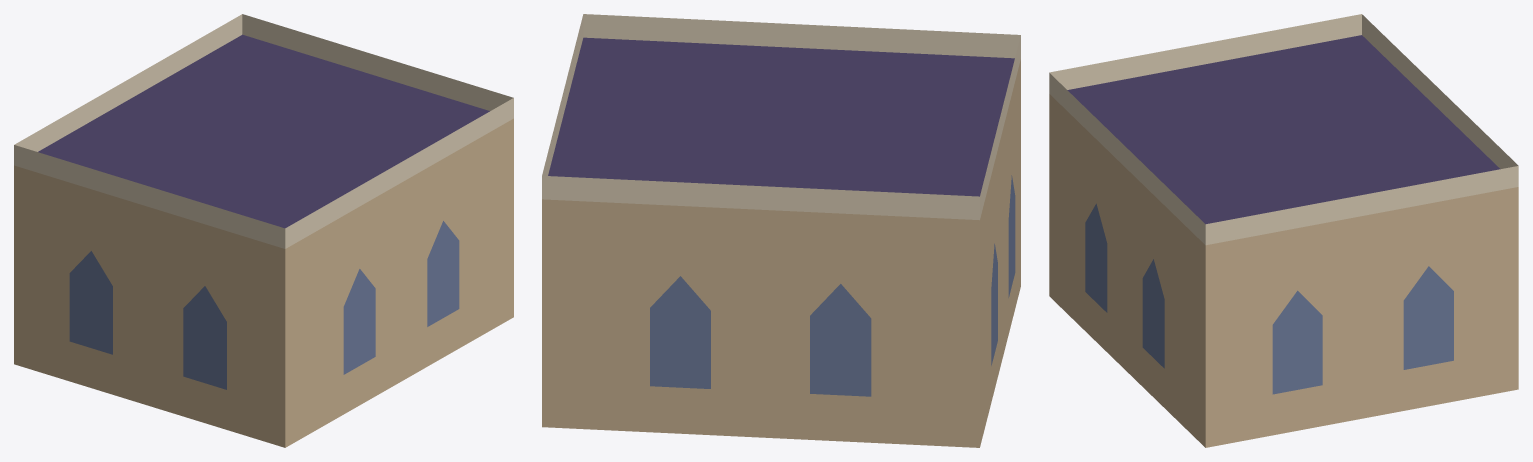
The model's file is b-002-day.glb.
The picture shows the model from 3 angles, left to right: view 1: azimuth 30°, elevation 25°; view 2: azimuth 150°, elevation 25°; view 3: azimuth 270°, elevation 25°; orthographic projection. The views are drawn at different scales.
Visible parts, largest first — view 1: campus/b-002-day-0; view 2: campus/b-002-day-0; view 3: campus/b-002-day-0.
Part boxes in pixels (x1,y1,x2,y2): campus/b-002-day-0: (14, 14, 513, 447); campus/b-002-day-0: (542, 14, 1020, 447); campus/b-002-day-0: (1049, 14, 1518, 447).
Size of the model in its own units: 11.8 by 5.85 by 11.13.
